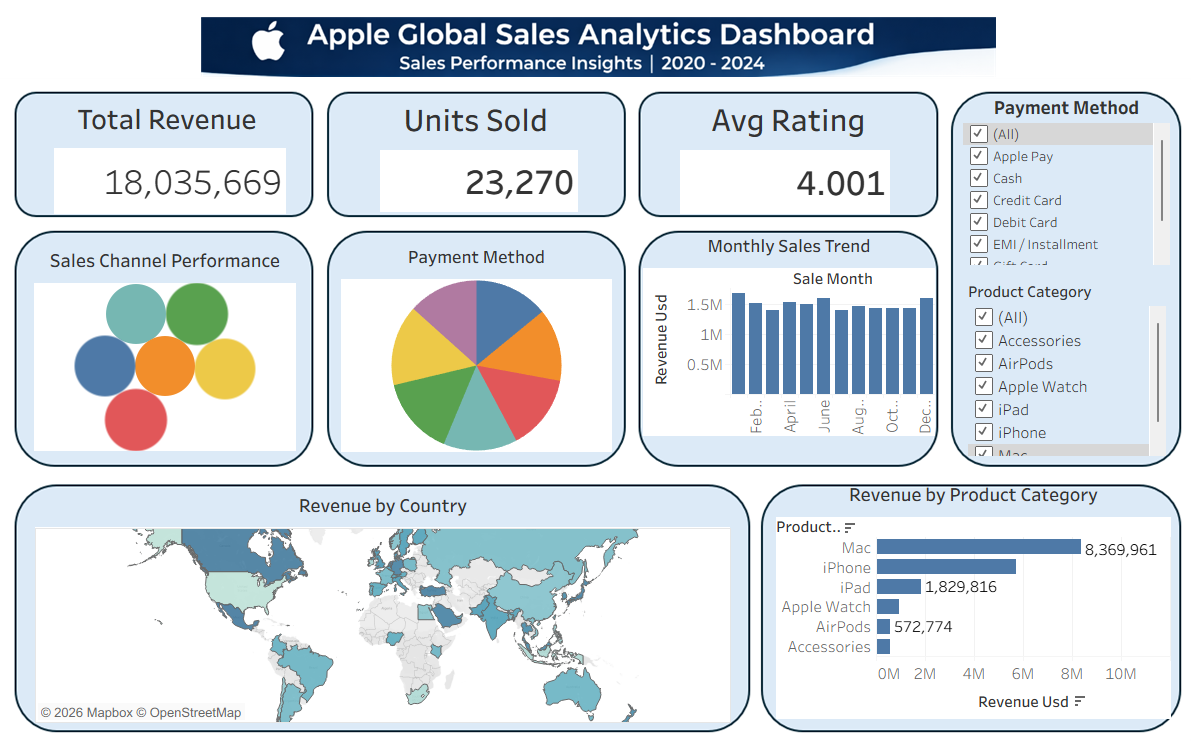

This screenshot's page, from the dashboard's own definition file:
{"tool":"tableau","page":{"name":"Dashboard 1","canvas":[1000,1000],"units":"permille","ordinal":0},"visuals":[{"type":"image","param":"Image/Screenshot 2026-03-15 003212.png","box":[27.1,38.7,955.7,70.4]},{"type":"worksheet","title":"Units Sold KPI","mark":"Automatic","box":[325.4,129.1,162.3,138.5]},{"type":"worksheet","title":" Avg Rating KPI","mark":"Automatic","box":[571.3,129.1,172.1,140.8]},{"type":"filter","title":" Payment Method","param":"[federated.15qnlsq07q69i41b6ygvb02xxdk4].[none:payment_method:nk]","box":[803.3,129.1,169.7,200.7]},{"type":"worksheet","title":"Total Revenue KPI","mark":"Automatic","box":[58.2,131.5,190.2,138.5]},{"type":"worksheet","title":" Monthly Sales Trend","mark":"Bar","rows":["revenue_usd"],"cols":["sale_month"],"box":[541,287.6,239.3,244.1]},{"type":"worksheet","title":" Payment Method","mark":"Pie","box":[293.4,300.5,222.1,248.8]},{"type":"worksheet","title":" Sales Channel Performance","mark":"Circle","box":[41.8,304,214.8,244.1]},{"type":"filter","title":" Revenue by Product Category","param":"[federated.15qnlsq07q69i41b6ygvb02xxdk4].[none:product_category:nk]","box":[805.7,334.5,162.3,223]},{"type":"worksheet","title":" Revenue by Product Category","mark":"Automatic","rows":["product_category"],"cols":["revenue_usd"],"box":[650,578.6,323.8,284]},{"type":"worksheet","title":" Revenue by Country","mark":"Automatic","box":[42.6,591.6,570.5,275.8]}]}

Visuals, with their boxes on the dashboard's canvas, which has no fixed pixel size, in thousandths of its width and height (x1, y1, x2, y2). These are canvas units, not pixel positions in the 1198x749 screenshot, which may show the page scaled, cropped or inside an application window:
image: region(27, 39, 983, 109)
"Units Sold KPI" worksheet: region(325, 129, 488, 268)
" Avg Rating KPI" worksheet: region(571, 129, 743, 270)
" Payment Method" filter: region(803, 129, 973, 330)
"Total Revenue KPI" worksheet: region(58, 132, 248, 270)
" Monthly Sales Trend" worksheet (Bar marks): region(541, 288, 780, 532)
" Payment Method" worksheet (Pie marks): region(293, 300, 516, 549)
" Sales Channel Performance" worksheet (Circle marks): region(42, 304, 257, 548)
" Revenue by Product Category" filter: region(806, 334, 968, 558)
" Revenue by Product Category" worksheet: region(650, 579, 974, 863)
" Revenue by Country" worksheet: region(43, 592, 613, 867)
